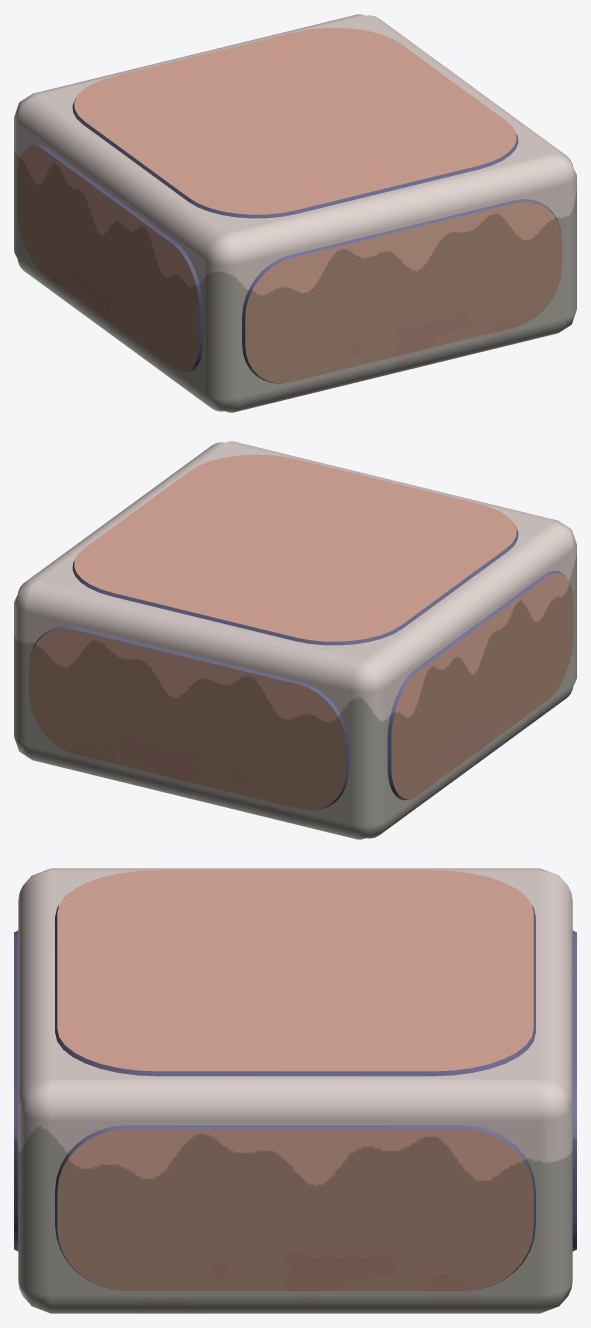
File: R4B_HalfBlock.glb
The picture shows the model from 3 angles, top to bottom: view 1: azimuth 30°, elevation 25°; view 2: azimuth 150°, elevation 25°; view 3: azimuth 270°, elevation 25°; orthographic projection. The views are drawn at different scales.
Visible parts, largest first — view 1: R4B_HalfBlock; view 2: R4B_HalfBlock; view 3: R4B_HalfBlock.
Part boxes in pixels (x1,y1,x2,y2): R4B_HalfBlock: (14, 14, 576, 412); R4B_HalfBlock: (14, 441, 576, 839); R4B_HalfBlock: (14, 868, 576, 1313).
Bounding box in the file's own units: 0.52 × 0.245 × 0.52.
Materials: 3 (3 with a texture image).
